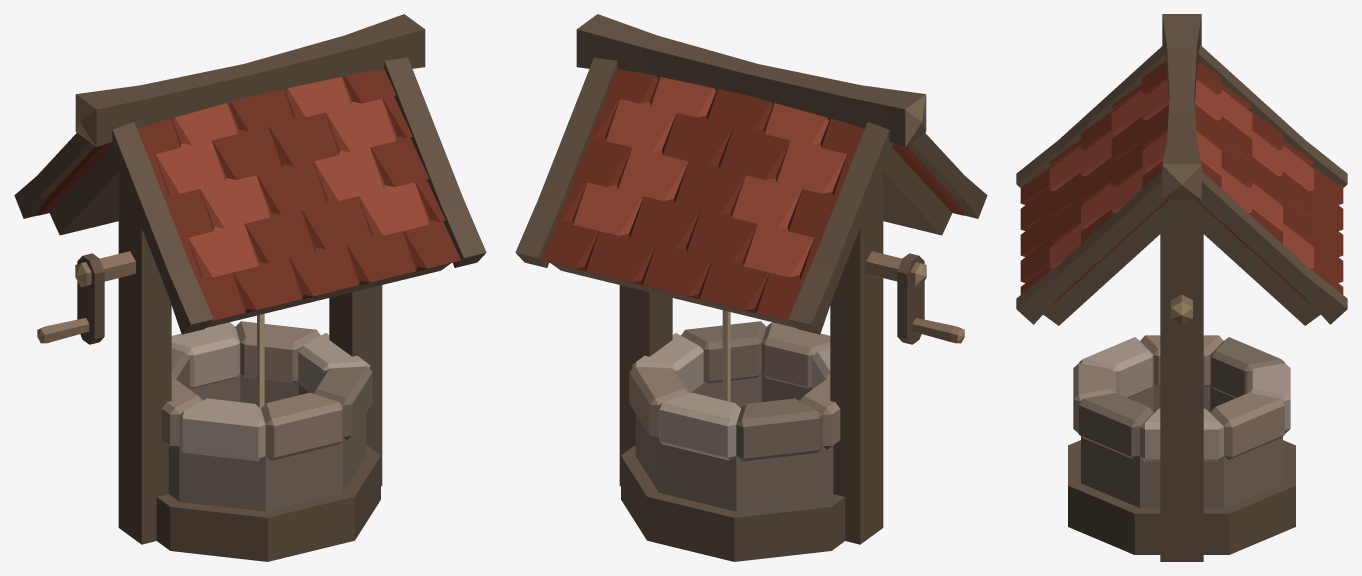
Rendered from Well.obj.
3 renders of one model, left to right at view 1: azimuth 30°, elevation 25°; view 2: azimuth 150°, elevation 25°; view 3: azimuth 270°, elevation 25°, orthographic. The views are drawn at different scales.
Visible parts, largest first — view 1: mergedBlocks; view 2: mergedBlocks; view 3: mergedBlocks.
Boxes of the visible parts, x1=… form: mergedBlocks: x1=14, y1=14, x2=486, y2=561; mergedBlocks: x1=515, y1=14, x2=987, y2=561; mergedBlocks: x1=1016, y1=14, x2=1347, y2=561.
Size of the model in its own units: 1.36 by 1.51 by 1.09.
